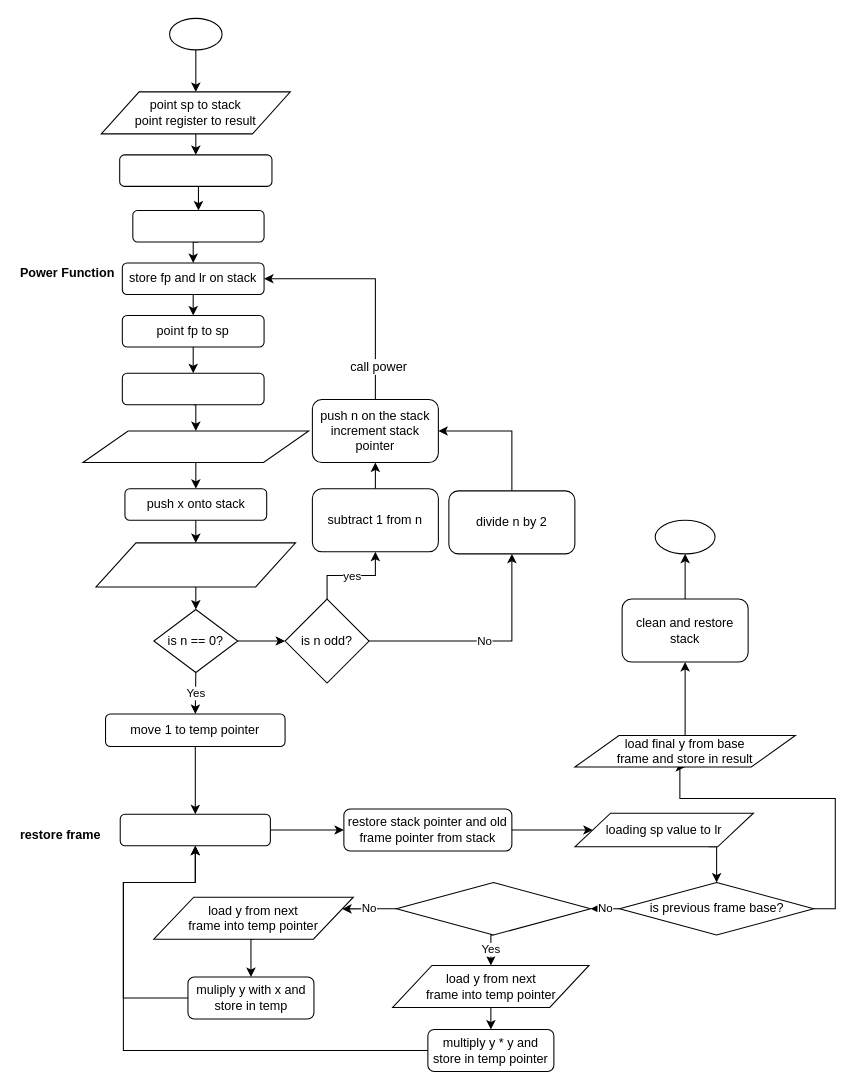
This 862x1090 diagram has some shape labels left out. The shapes that lost their labels are listed below. From the top down, each one's box as (x1, y1, x2, y2) in pixels, then its label:
(169, 17, 222, 50): Start
(119, 154, 272, 186): push x and n onto stack
(132, 209, 264, 242): call power function
(121, 372, 264, 405): make space for y
(82, 430, 309, 463): load x from previous frame
(654, 519, 715, 554): stop
(95, 542, 296, 587): load n from previous frame to temp pointer
(119, 813, 270, 846): store temp pointer in y
(395, 881, 591, 935): is previous frame odd n?
